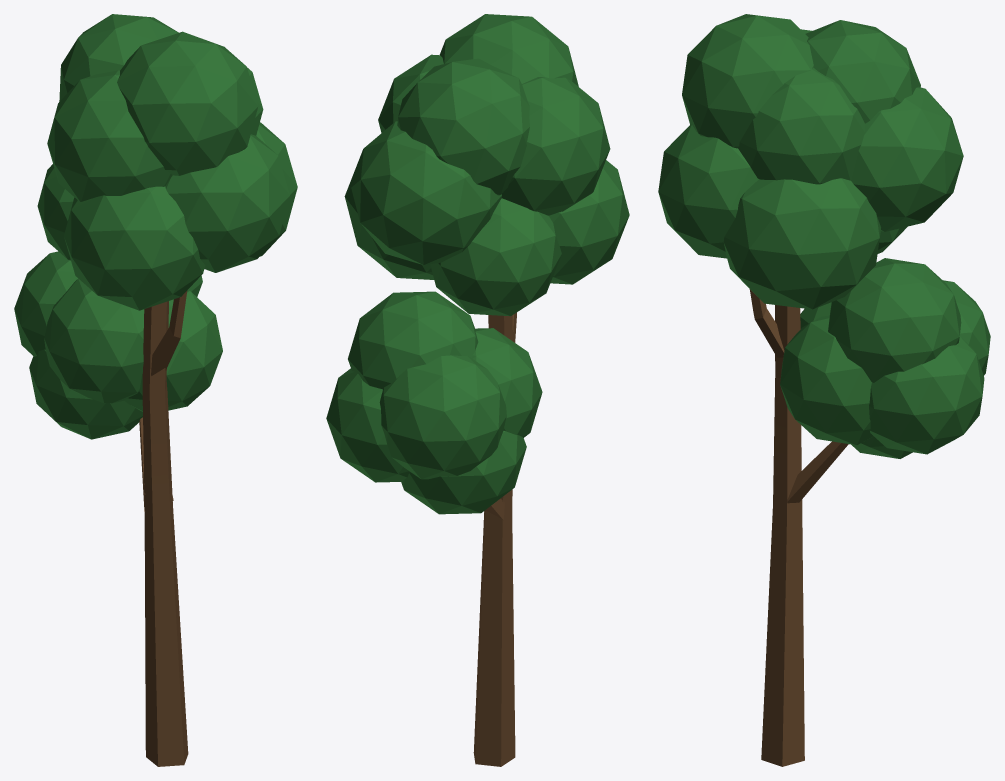
File: tree1.fbx
The picture shows the model from 3 angles, left to right: view 1: azimuth 30°, elevation 25°; view 2: azimuth 150°, elevation 25°; view 3: azimuth 270°, elevation 25°; orthographic projection.
Visible parts, largest first — view 1: tree17__1_; view 2: tree17__1_; view 3: tree17__1_.
Part boxes in pixels (x1,y1,x2,y2): tree17__1_: [14, 14, 297, 766]; tree17__1_: [326, 14, 629, 766]; tree17__1_: [658, 14, 990, 766].
Bounding box in the file's own units: 288 × 840 × 343.
